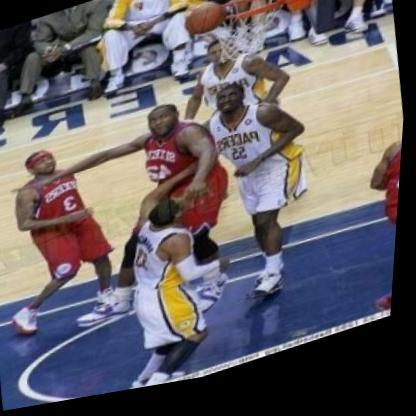basketball: (183, 4, 230, 47)
